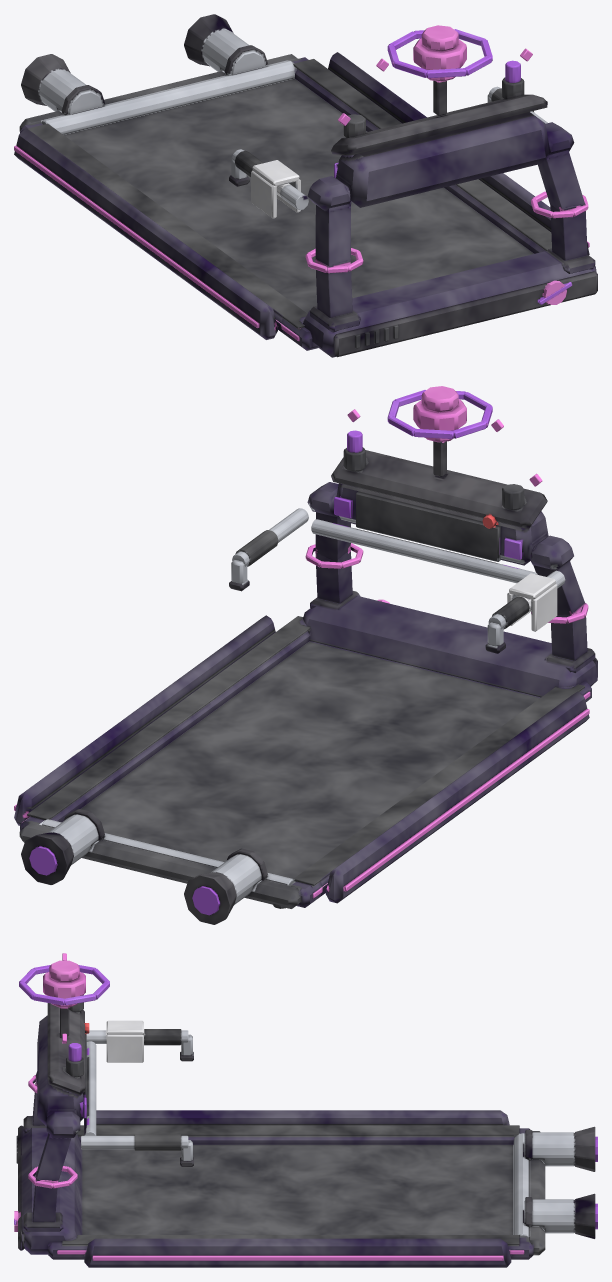
Rendered from Treadmill_Cosmique_Rig.fbx.
3 renders of one model, top to bottom at view 1: azimuth 30°, elevation 25°; view 2: azimuth 150°, elevation 25°; view 3: azimuth 270°, elevation 25°, orthographic. The views are drawn at different scales.
Visible parts, largest first — view 1: Frame, Console, Decor; view 2: Frame, Console, Decor; view 3: Frame, Decor, Console.
Part boxes in pixels (box(x1,y1,x2,y2)): Frame: box(19, 54, 597, 357); Console: box(229, 60, 595, 332); Decor: box(14, 14, 589, 339); Frame: box(19, 595, 597, 908); Console: box(229, 430, 595, 672); Decor: box(14, 386, 589, 924); Frame: box(14, 1125, 545, 1259); Decor: box(19, 953, 597, 1267); Console: box(23, 995, 193, 1232).
Size of the model in its own units: 7.45 by 6 by 13.42.
1 material, 1 textured.
